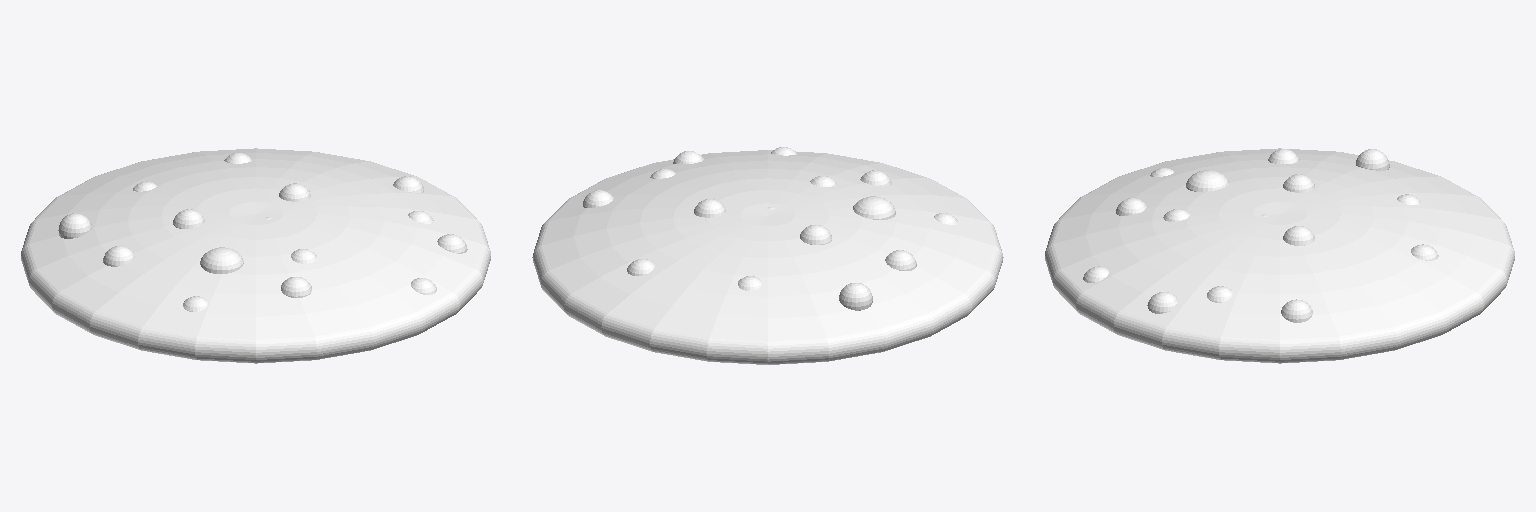
robot.urdf — cookie:
<robot name="cookie">
	<link name="_name">
		<visual>
			<origin rpy="0 0 0" xyz="-664.8785 -138.96450000000002 -23.3694" />
			<geometry>
				<mesh filename="cookie/2ec24ca1dd42c39f6ad0370a38d43358.obj" scale="1 1 1" />
			</geometry>
			<material name="texture">
				<color rgba="1.0 1.0 1.0 1.0" />
			</material>
		</visual>
		<collision>
			<geometry>
				<mesh filename="cookie/2ec24ca1dd42c39f6ad0370a38d43358_vhacd.obj" scale="1 1 1" />
			</geometry>
		<origin rpy="0 0 0" xyz="-664.8785 -138.96450000000002 -23.3694" /></collision>
		<inertial>
			<mass value="1.0" />
			<inertia ixx="1.0" ixy="0.0" ixz="0.0" iyy="1.0" iyz="0.0" izz="1.0" />
		</inertial>
	</link>
</robot>

--- What the picture shows (computed from the rendered views, not written in the file) ---
Views: 3 orthographic renders of the robot side by side, from view 1: azimuth 30°, elevation 25°; view 2: azimuth 150°, elevation 25°; view 3: azimuth 270°, elevation 25°.
Model cookie with 1 links and 0 joints (none), rooted at _name, posed every joint at zero.
Links seen in each view (by area): view 1: _name; view 2: _name; view 3: _name.
Link boxes in pixels (x1,y1,x2,y2): _name: (21,148,490,363); _name: (532,147,1003,364); _name: (1045,148,1514,363).
Size in the robot's own frame: 246 by 246 by 36.93 metres.
Meshes: 1 distinct files referenced, 1 mesh visuals loaded (1 OBJ).